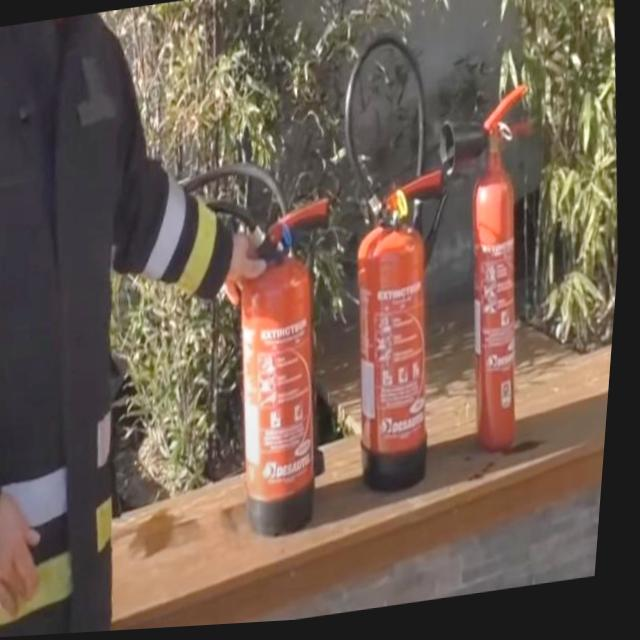FireExtinguisher: (145, 144, 368, 561), (308, 17, 493, 511), (412, 75, 579, 469)
